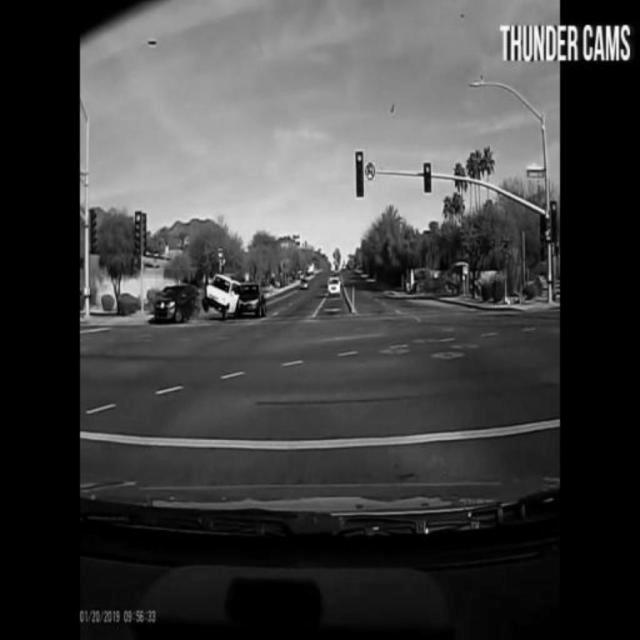accident: (155, 270, 235, 324)
vehicle: (237, 286, 265, 318), (327, 276, 343, 296)
